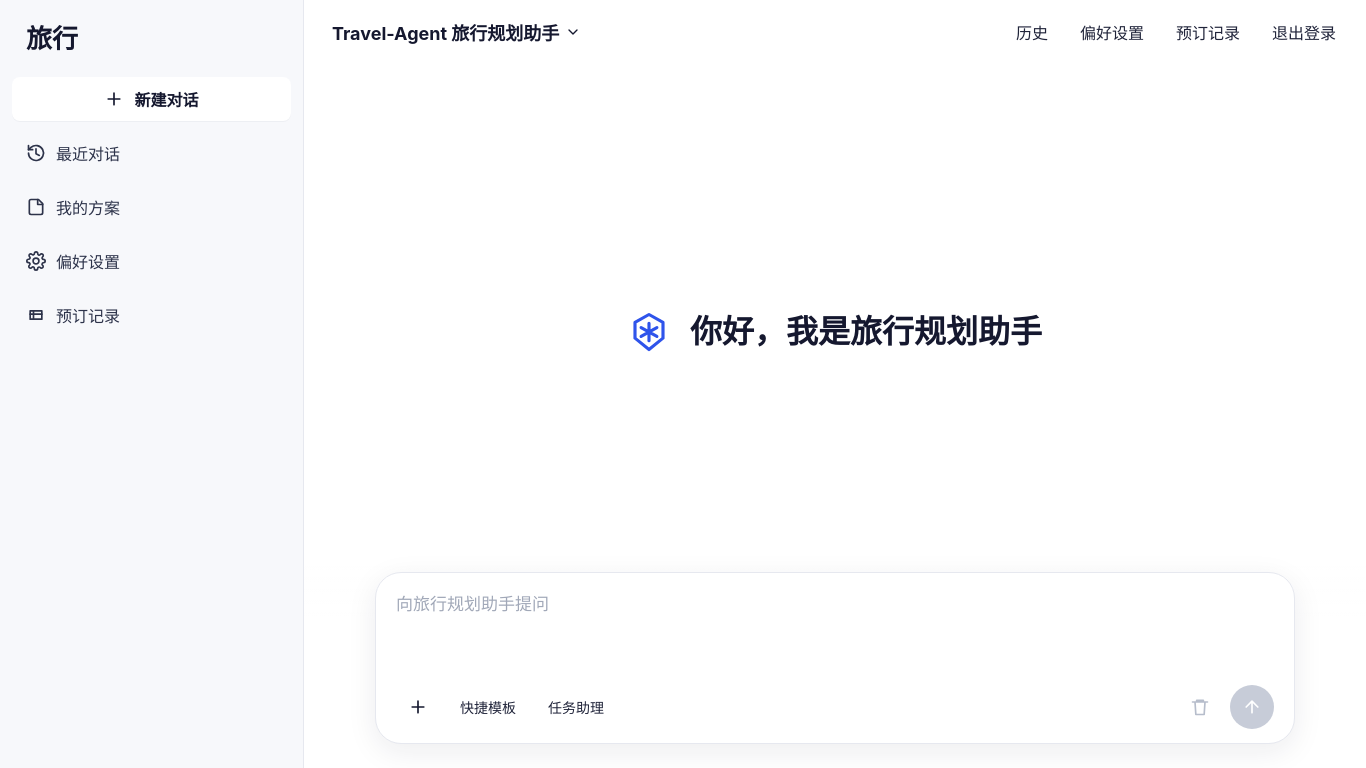
it: creates a chat task and opens the full plan drawer
In the text box named "旅行需求": point(835, 632) [396,591,1274,673], type "帮我规划杭州两日游"
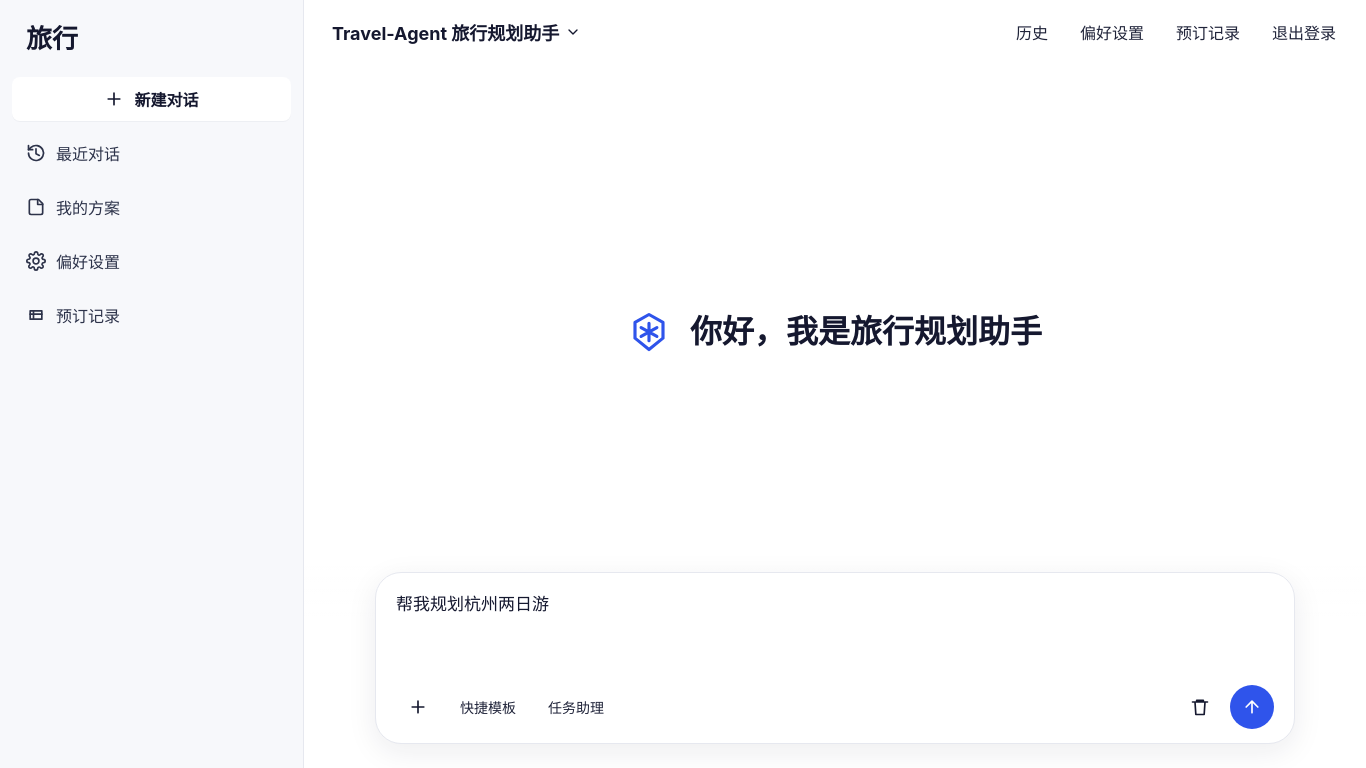
Click the button named "发送": point(1252, 707) [1230,685,1274,729]
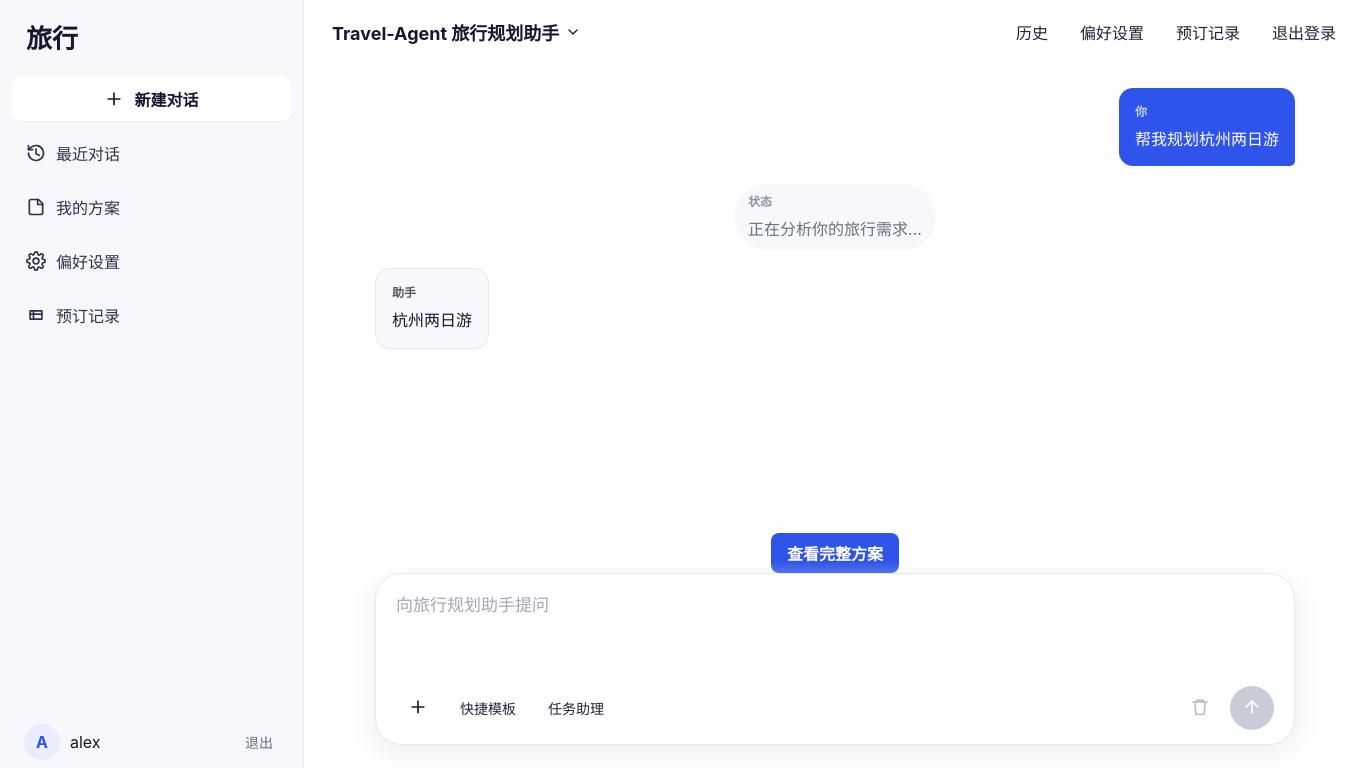
Result: the text "杭州两日游" is shown at [392,307,472,334]
Click the button "查看完整方案": point(835, 553) [771,533,899,573]
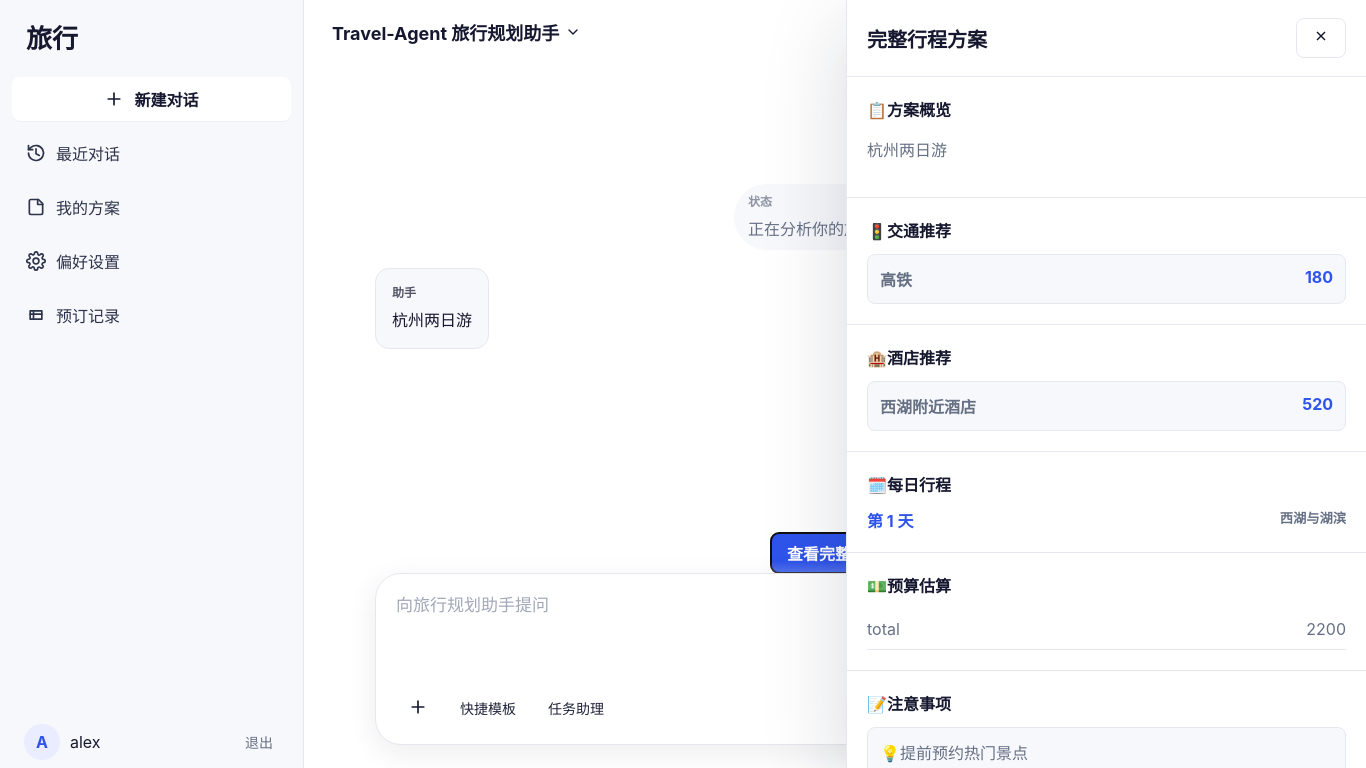
Result: the heading "🚦交通推荐" is shown at [867,221,951,241]
Result: the heading "西湖附近酒店" is shown at [880,394,976,418]
